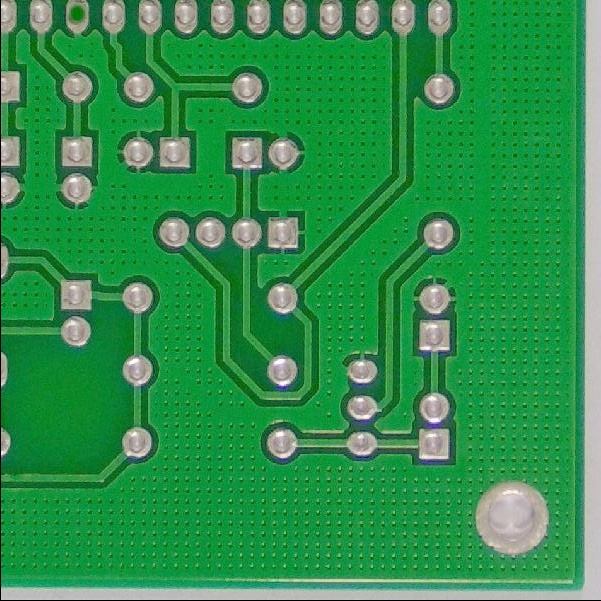missing_hole: (58, 1, 94, 37)
